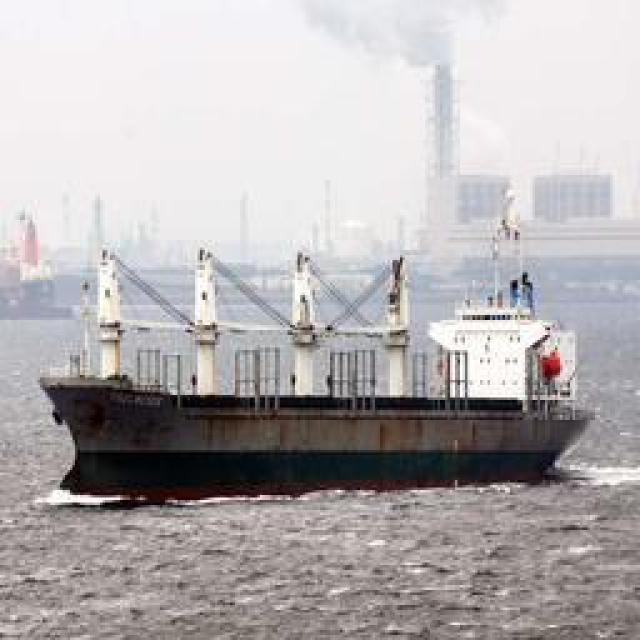Ship: (26, 213, 596, 508)
